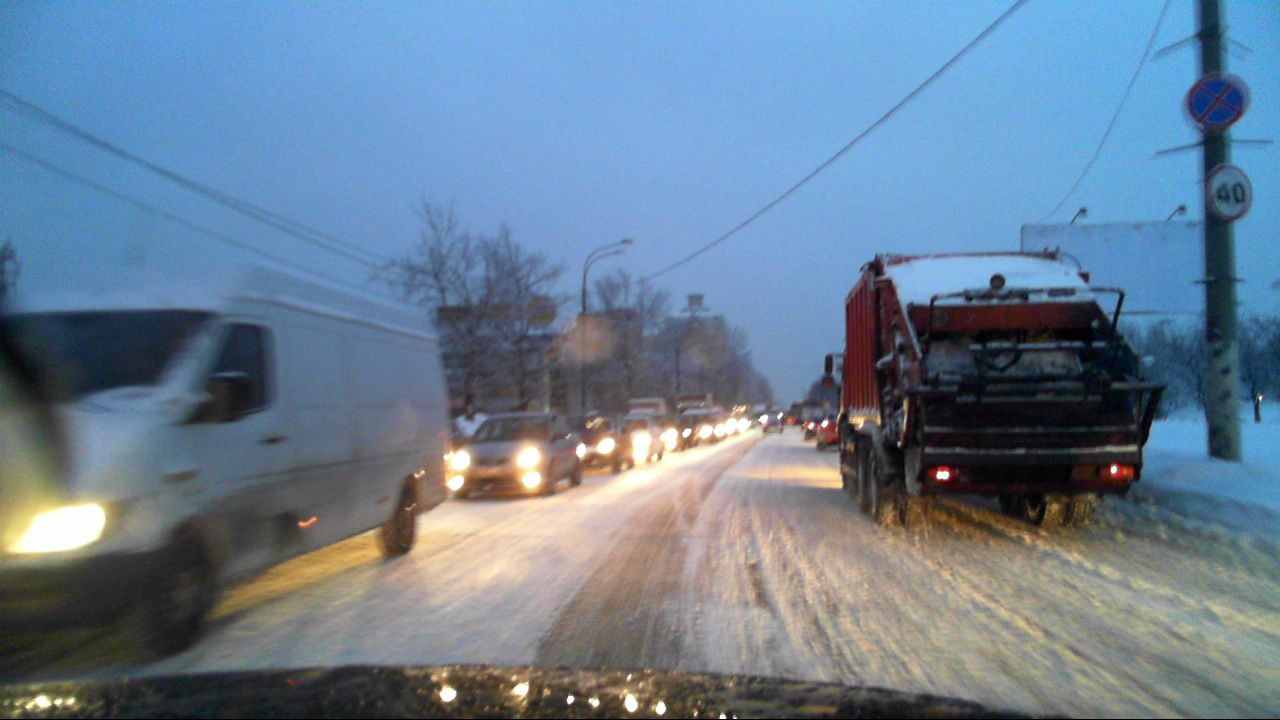No Parking: (1180, 67, 1246, 131)
speed_warning_40: (1201, 161, 1252, 221)
